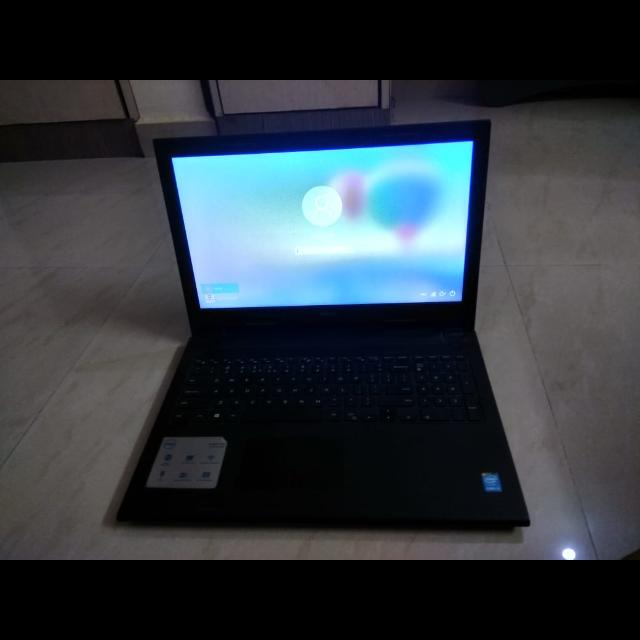Laptop: (107, 111, 537, 538)
